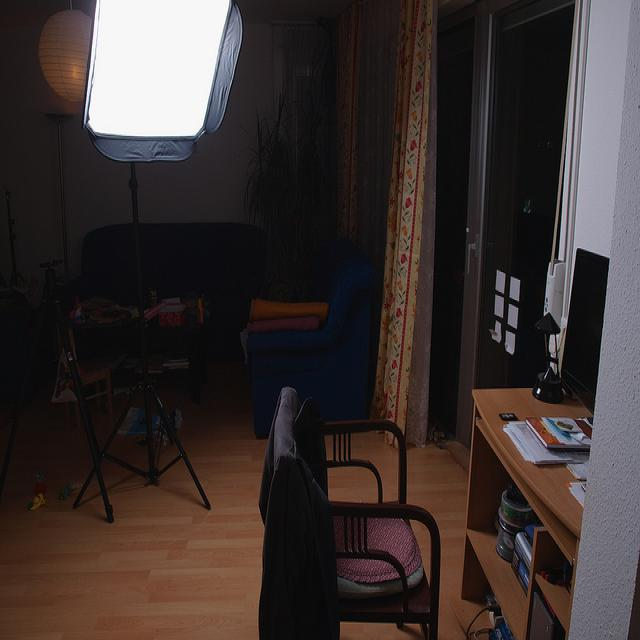Table: (28, 267, 232, 543), (450, 383, 604, 640)
chair: (253, 367, 446, 640), (237, 228, 391, 433), (71, 198, 282, 310)
